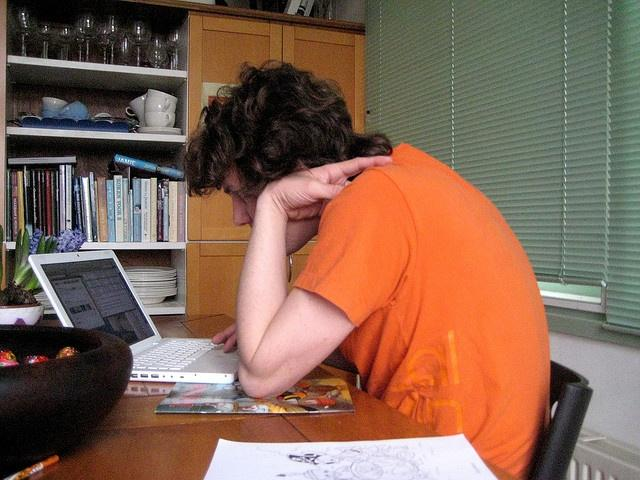Rak: (0, 0, 189, 320)
